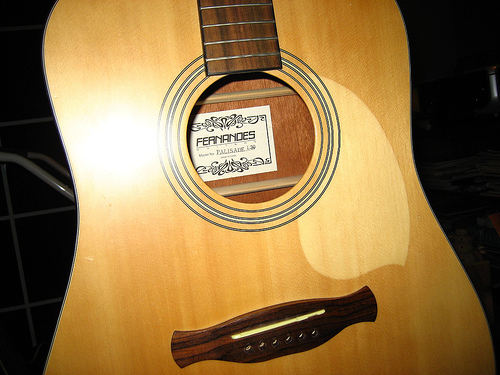guitar: (37, 1, 496, 375)
